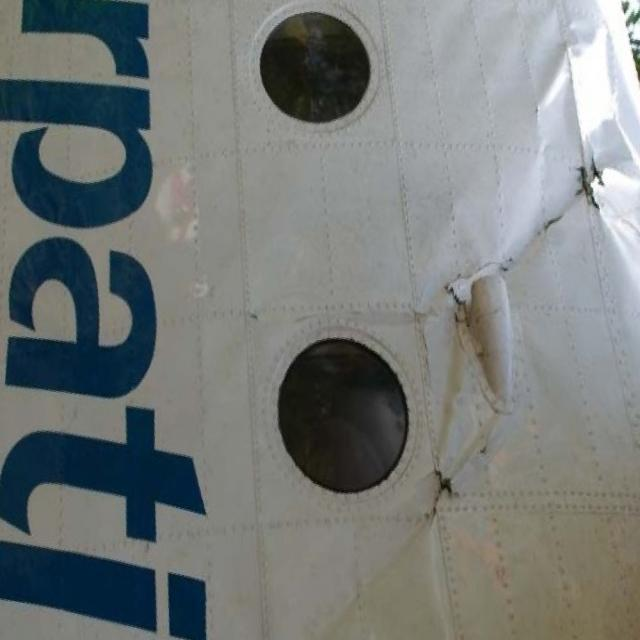crack: (544, 154, 609, 238), (426, 463, 463, 523)
dent: (533, 19, 640, 266)
